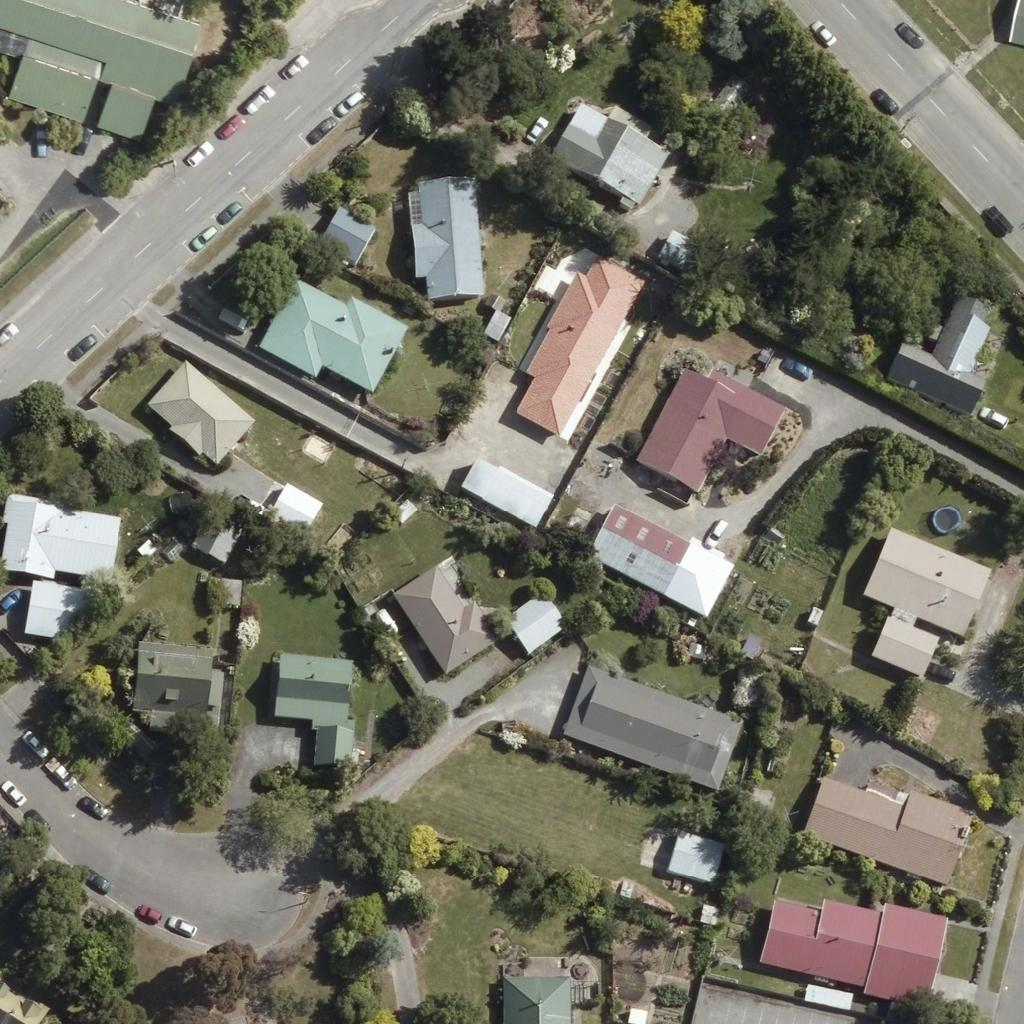car: (806, 14, 840, 48), (892, 18, 926, 52), (275, 51, 309, 85), (867, 82, 901, 116), (332, 84, 366, 118), (240, 85, 274, 119), (306, 109, 340, 143), (211, 110, 245, 144), (520, 110, 554, 144), (22, 118, 56, 152), (65, 125, 99, 159), (181, 137, 215, 171), (212, 193, 246, 227), (981, 202, 1015, 236), (188, 217, 222, 251), (65, 327, 99, 361), (783, 348, 817, 382), (977, 399, 1011, 433), (699, 511, 733, 545), (921, 653, 955, 687), (16, 723, 50, 757), (45, 754, 79, 788), (74, 788, 108, 822), (21, 804, 55, 838), (79, 862, 113, 896), (133, 895, 167, 929), (164, 907, 198, 941), (0, 775, 30, 809), (0, 582, 25, 616), (0, 319, 19, 353)
